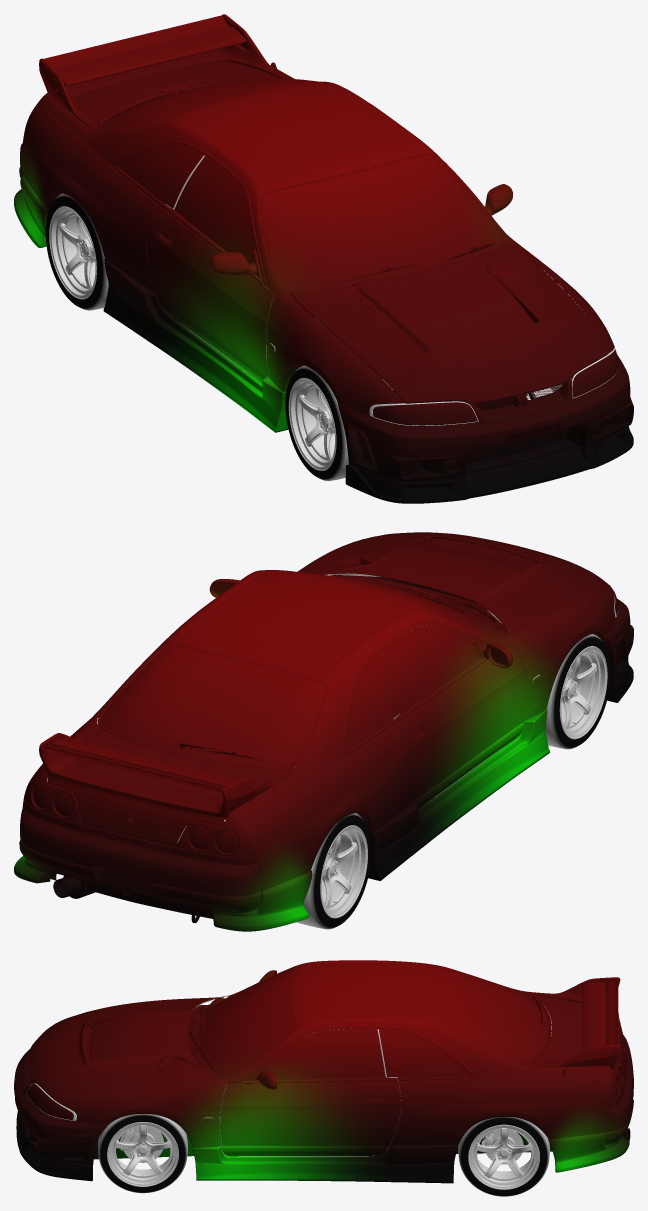
Rendered from Skyline-GTR-R33-FH6.glb.
3 views of the same model, one above another, from view 1: azimuth 30°, elevation 25°; view 2: azimuth 150°, elevation 25°; view 3: azimuth 270°, elevation 25° (orthographic). The views are drawn at different scales.
Visible parts, largest first — view 1: body_a_LODS0 carPaint, hood_b_LODS0 carPaint, glassF_a_LODS0 Glass_Windshield, bumperF_c_LODS0 carPaint, doorRF_a_LODS0 carPaint, fenders_a_LODS0 carPaint, skirtL_d_LODS0|AndOthers carPaint, bumperFCustom_c_LODS0 carPaint, wing_c_LODS0 Material__27, glassRF_a_LODS0 Glass_Windshield, trunk_a_LODS0 carPaint, wing_c_LODS0 carPaint (+15 smaller); view 2: body_a_LODS0 carPaint, glassR_a_LODS0 Glass_Windshield, hood_b_LODS0 carPaint, bumperR_a_LODS0 carPaint, doorRF_a_LODS0 carPaint, skirtL_d_LODS0|AndOthers carPaint, trunk_a_LODS0 carPaint, fenders_a_LODS0 carPaint, wing_c_LODS0 carPaint, glassRF_a_LODS0 Glass_Windshield, bumperRCustom_b_LODS0 carPaint, wing_c_LODS0 Material__27 (+21 smaller); view 3: body_a_LODS0 carPaint, doorLF_a_LODS0 carPaint, hood_b_LODS0 carPaint, skirtL_d_LODS0|AndOthers carPaint, fenders_a_LODS0 carPaint, glassF_a_LODS0 Glass_Windshield, glassR_a_LODS0 Glass_Windshield, glassLF_a_LODS0 Glass_Windshield, bumperF_c_LODS0 carPaint, trunk_a_LODS0 carPaint, wing_c_LODS0 Material__27, glassLR_a_LODS0 Glass_Windshield (+23 smaller).
Part boxes in pixels (x1=…): body_a_LODS0 carPaint: x1=22, y1=65, x2=506, y2=294; hood_b_LODS0 carPaint: x1=291, y1=241, x2=608, y2=404; glassF_a_LODS0 Glass_Windshield: x1=261, y1=154, x2=502, y2=292; bumperF_c_LODS0 carPaint: x1=337, y1=354, x2=633, y2=482; doorRF_a_LODS0 carPaint: x1=147, y1=207, x2=275, y2=382; fenders_a_LODS0 carPaint: x1=266, y1=232, x2=614, y2=415; skirtL_d_LODS0|AndOthers carPaint: x1=103, y1=258, x2=288, y2=432; bumperFCustom_c_LODS0 carPaint: x1=345, y1=426, x2=633, y2=503; wing_c_LODS0 Material__27: x1=43, y1=15, x2=246, y2=86; glassRF_a_LODS0 Glass_Windshield: x1=174, y1=156, x2=255, y2=263; trunk_a_LODS0 carPaint: x1=75, y1=61, x2=279, y2=126; wing_c_LODS0 carPaint: x1=39, y1=14, x2=289, y2=129; body_a_LODS0 carPaint: x1=22, y1=570, x2=508, y2=891; glassR_a_LODS0 Glass_Windshield: x1=101, y1=646, x2=324, y2=768; hood_b_LODS0 carPaint: x1=303, y1=532, x2=608, y2=633; bumperR_a_LODS0 carPaint: x1=19, y1=807, x2=261, y2=918; doorRF_a_LODS0 carPaint: x1=395, y1=643, x2=527, y2=808; skirtL_d_LODS0|AndOthers carPaint: x1=368, y1=709, x2=549, y2=880; trunk_a_LODS0 carPaint: x1=48, y1=723, x2=284, y2=846; fenders_a_LODS0 carPaint: x1=297, y1=536, x2=615, y2=721; wing_c_LODS0 carPaint: x1=39, y1=719, x2=294, y2=820; glassRF_a_LODS0 Glass_Windshield: x1=380, y1=624, x2=479, y2=713; bumperRCustom_b_LODS0 carPaint: x1=14, y1=855, x2=312, y2=931; wing_c_LODS0 Material__27: x1=43, y1=736, x2=240, y2=792; body_a_LODS0 carPaint: x1=224, y1=960, x2=626, y2=1145; doorLF_a_LODS0 carPaint: x1=220, y1=1080, x2=401, y2=1156; hood_b_LODS0 carPaint: x1=28, y1=997, x2=216, y2=1099; skirtL_d_LODS0|AndOthers carPaint: x1=193, y1=1144, x2=458, y2=1183; fenders_a_LODS0 carPaint: x1=55, y1=995, x2=228, y2=1147; glassF_a_LODS0 Glass_Windshield: x1=198, y1=967, x2=295, y2=1078; glassR_a_LODS0 Glass_Windshield: x1=447, y1=969, x2=548, y2=1062; glassLF_a_LODS0 Glass_Windshield: x1=270, y1=1028, x2=385, y2=1079; bumperF_c_LODS0 carPaint: x1=14, y1=1049, x2=108, y2=1164; trunk_a_LODS0 carPaint: x1=530, y1=994, x2=625, y2=1077; wing_c_LODS0 Material__27: x1=582, y1=978, x2=618, y2=1050; glassLR_a_LODS0 Glass_Windshield: x1=387, y1=1029, x2=463, y2=1077.
Bounding box in the file's own units: 1.97 × 1.35 × 4.67.
